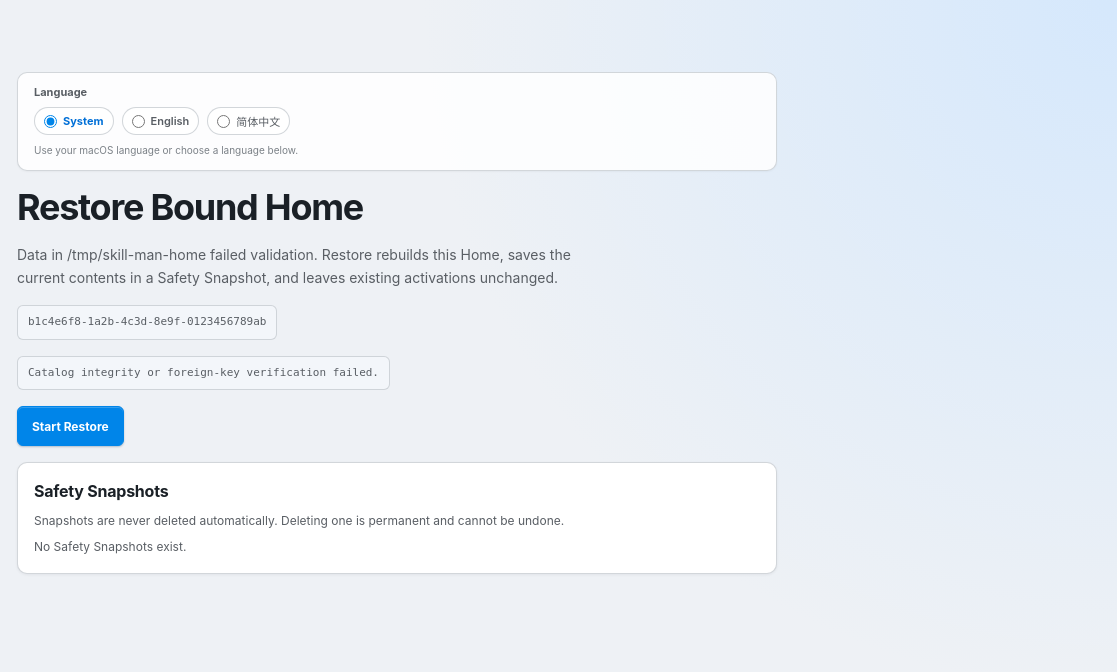
Test: a rolled-back apply reports it and offers Start again
This screenshot has width=1117, height=672.
Click the button "Start Restore": [70, 426] box [17, 406, 124, 446]
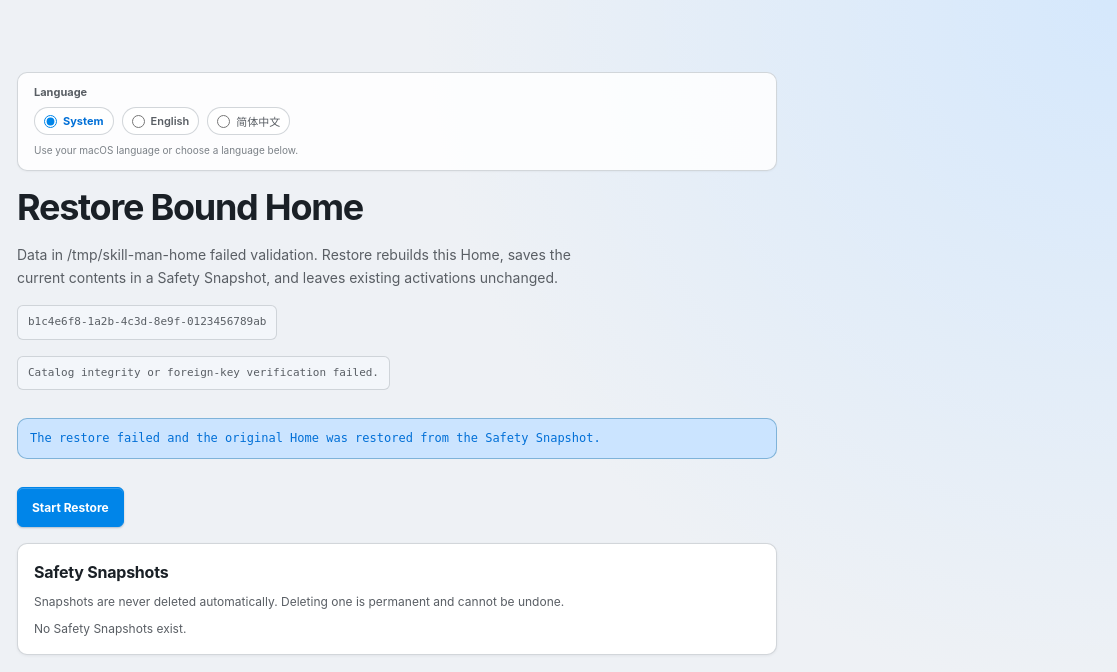
Expected: the button "Start Restore" is shown, [17, 487, 124, 527]
Now the text "original Home was restored" is shown, box [30, 431, 601, 445]
